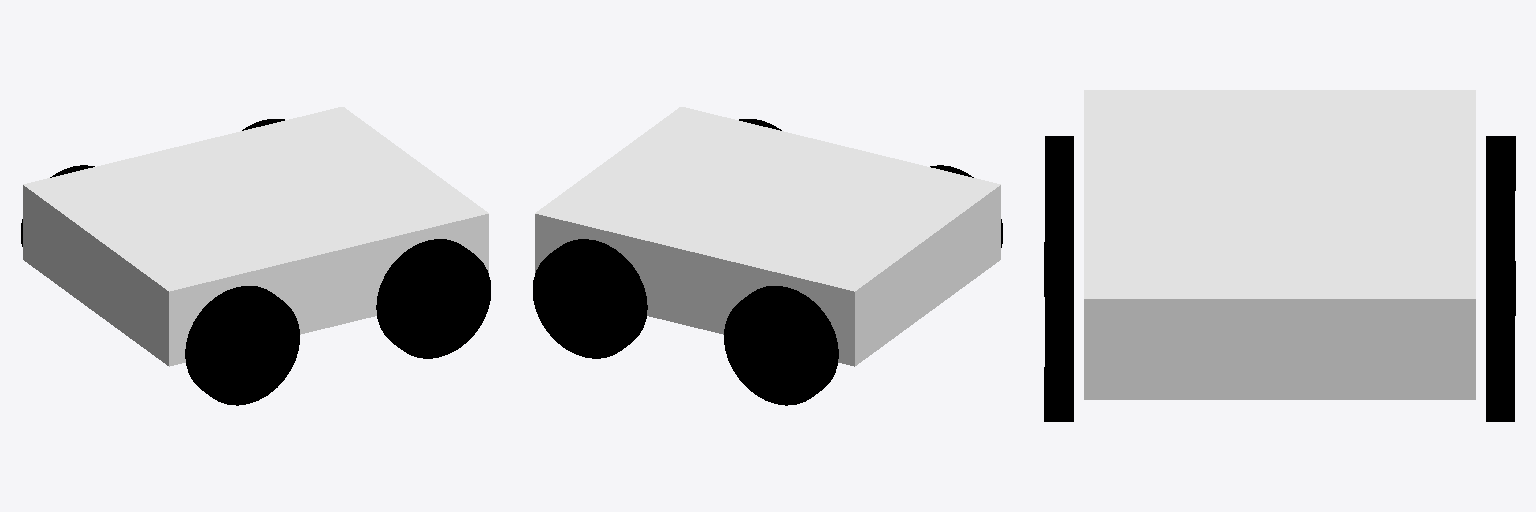
URDF robot description (wheeltec_robot):
<?xml version="1.0" ?>
<robot name="wheeltec_robot">

    <link name="base_link">
        <visual>
            <origin xyz=" 0 0 0.16" rpy="0 0 0" />
            <geometry>
                <box size="0.67 0.53 0.150"/>
            </geometry>
            <material name="white">
                <color rgba="1 1 1 1"/>
            </material>
        </visual>
    </link>   

    <joint name="left_wheel_joint" type="continuous">
        <origin xyz="-0.200 0.298 0.109" rpy="1.57 0 0"/>
        <parent link="base_link"/>
        <child link="left_wheel_link"/>
        <axis xyz="0 1 0"/>
    </joint>

    <link name="left_wheel_link">
        <visual>
            <origin xyz="0 0 0" rpy="0 0 0" />
            <geometry>
                <cylinder radius="0.109" length = "0.04"/>
            </geometry>
            <material name="black">
                <color rgba="0 0 0 1"/>
            </material>
        </visual>
    </link>

    <joint name="right_wheel_joint" type="continuous">
        <origin xyz="-0.200 -0.298 0.109" rpy="1.57 0 0"/>
        <parent link="base_link"/>
        <child link="right_wheel_link"/>
        <axis xyz="0 1 0"/>
    </joint>

    <link name="right_wheel_link">
        <visual>
            <origin xyz="0 0 0" rpy="0 0 0" />
            <geometry>
                <cylinder radius="0.109" length = "0.04"/>
            </geometry>
            <material name="black">
                <color rgba="0 0 0 1"/>
            </material>
        </visual>
    </link>

      <joint name="left_front_joint" type="continuous">
        <origin xyz="0.200 0.298 0.109" rpy="1.57 0 0"/>
        <parent link="base_link"/>
        <child link="left_front_link"/>
        <axis xyz="0 1 0"/>
    </joint>

    <link name="left_front_link">
        <visual>
            <origin xyz="0 0 0" rpy="0 0 0" />
            <geometry>
                <cylinder radius="0.109" length = "0.04"/>
            </geometry>
            <material name="black">
                <color rgba="0 0 0 1"/>
            </material>
        </visual>
    </link>

    <joint name="right_front_joint" type="continuous">
        <origin xyz="0.200 -0.298 0.109" rpy="1.57 0 0"/>
        <parent link="base_link"/>
        <child link="right_front_link"/>
        <axis xyz="0 1 0"/>
    </joint>

    <link name="right_front_link">
        <visual>
            <origin xyz="0 0 0" rpy="0 0 0" />
            <geometry>
                <cylinder radius="0.109" length = "0.04"/>
            </geometry>
            <material name="black">
                <color rgba="0 0 0 1"/>
            </material>
        </visual>
    </link>


</robot>

--- What the picture shows (computed from the rendered views, not written in the file) ---
3 views of the same robot in one strip: view 1: azimuth 30°, elevation 25°; view 2: azimuth 150°, elevation 25°; view 3: azimuth 270°, elevation 25° (orthographic).
Model wheeltec_robot with 5 links and 4 joints (4 continuous), rooted at base_link, posed all joints at 0.
Visible links, largest first — view 1: base_link, right_front_link, right_wheel_link; view 2: base_link, left_front_link, left_wheel_link; view 3: base_link, left_front_link, right_front_link, left_wheel_link, right_wheel_link.
Boxes of the visible links, <box> form: base_link: <box>23,107,488,366</box>; right_front_link: <box>376,239,490,358</box>; right_wheel_link: <box>185,286,299,405</box>; base_link: <box>535,107,1000,366</box>; left_front_link: <box>533,239,647,358</box>; left_wheel_link: <box>724,286,838,405</box>; base_link: <box>1084,90,1475,399</box>; left_front_link: <box>1486,261,1515,421</box>; right_front_link: <box>1044,261,1073,421</box>; left_wheel_link: <box>1486,136,1515,260</box>; right_wheel_link: <box>1044,136,1073,296</box>.
Bounding box of the posed robot: 0.67 × 0.6362 × 0.235 m (x, y, z).
Geometry: primitives only (box / cylinder / sphere), no mesh files.
